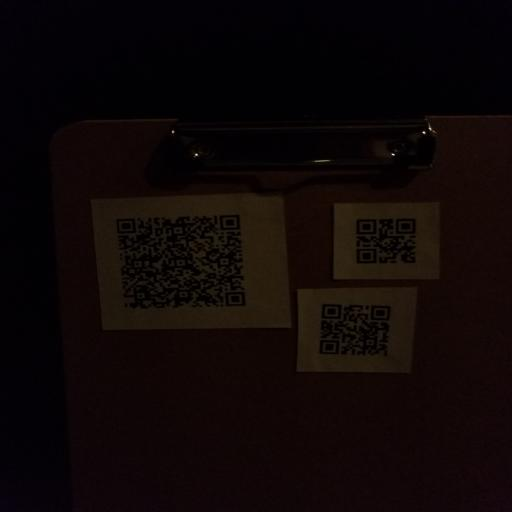QR_CODE: (106, 201, 254, 317), (306, 296, 400, 365), (345, 208, 425, 273)
